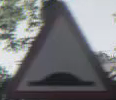Speed Breaker ahead: (11, 16, 96, 90)
